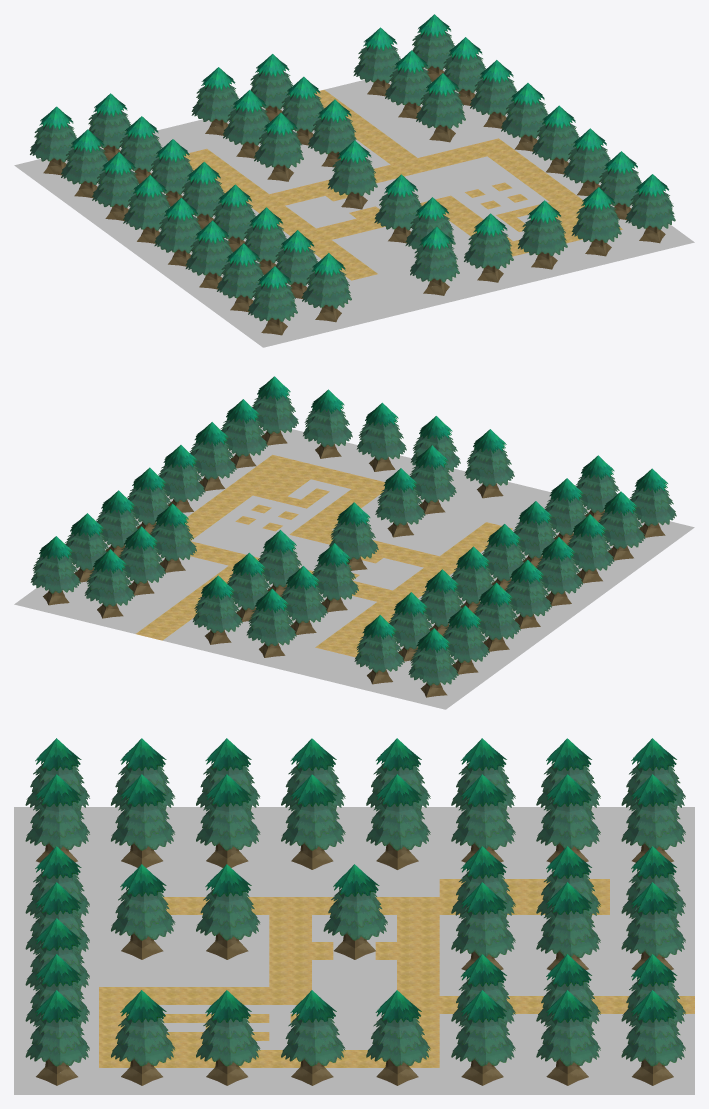
Rendered from RouteTest_01.fbx.
3 views of the same model, one above another, from view 1: azimuth 30°, elevation 25°; view 2: azimuth 150°, elevation 25°; view 3: azimuth 270°, elevation 25° (orthographic). The views are drawn at different scales.
Parts seen in each view (by area): view 1: map.001; view 2: map.001; view 3: map.001.
Boxes of the visible parts, left/top/right/bottom form: map.001: left=14, top=14, right=694, bottom=347; map.001: left=14, top=376, right=694, bottom=709; map.001: left=14, top=738, right=694, bottom=1094.
Size of the model in its own units: 3200 by 3200 by 452.
